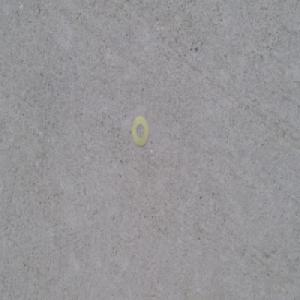Washer: (130, 114, 148, 147)
